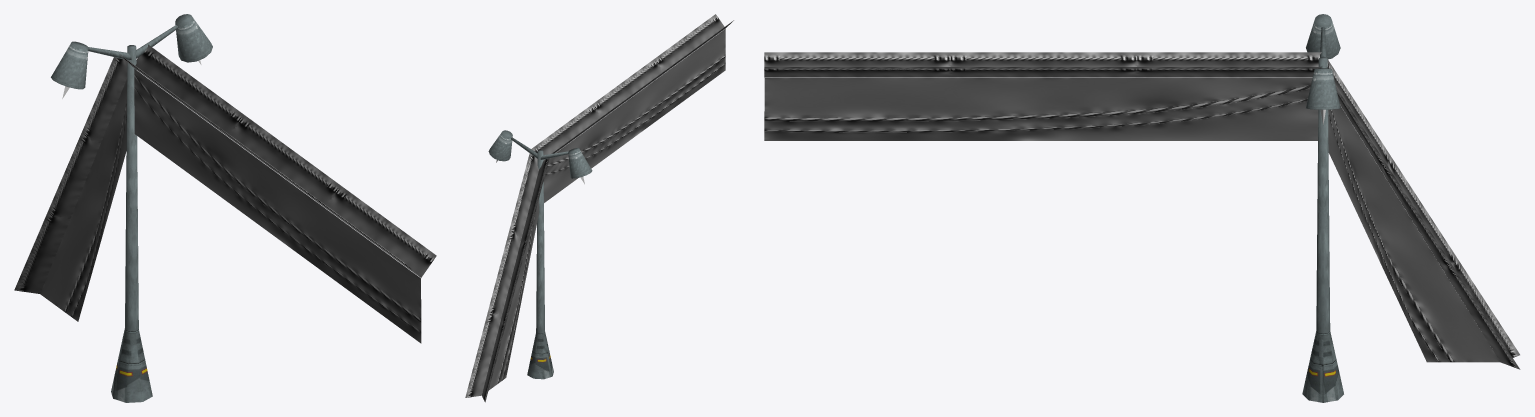
File: pbtele05.FBX
The picture shows the model from 3 angles, left to right: view 1: azimuth 30°, elevation 25°; view 2: azimuth 150°, elevation 25°; view 3: azimuth 270°, elevation 25°; orthographic projection. The views are drawn at different scales.
Visible parts, largest first — view 1: lines5__2, pbtele05; view 2: lines5__2, pbtele05; view 3: lines5__2, pbtele05.
Boxes of the visible parts, box(x1,y1,x2,y2) form: lines5__2: box(14, 44, 436, 343); pbtele05: box(51, 14, 212, 402); lines5__2: box(465, 14, 733, 402); pbtele05: box(488, 130, 592, 379); lines5__2: box(764, 52, 1520, 369); pbtele05: box(1302, 14, 1343, 402).
Size of what is drawn, in the model's own units: 5.02 by 21.65 by 11.13.
